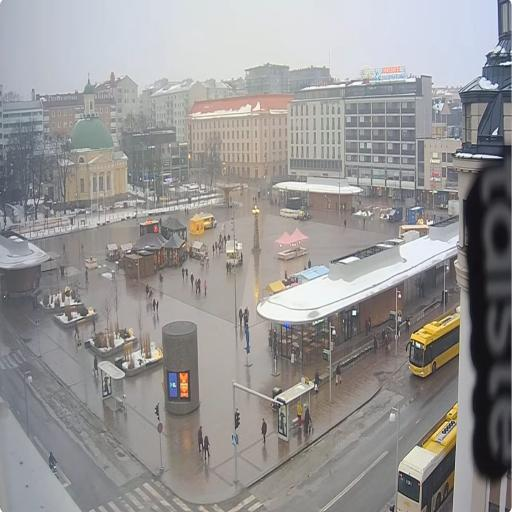Bus: (397, 402, 458, 511), (408, 310, 460, 376)
